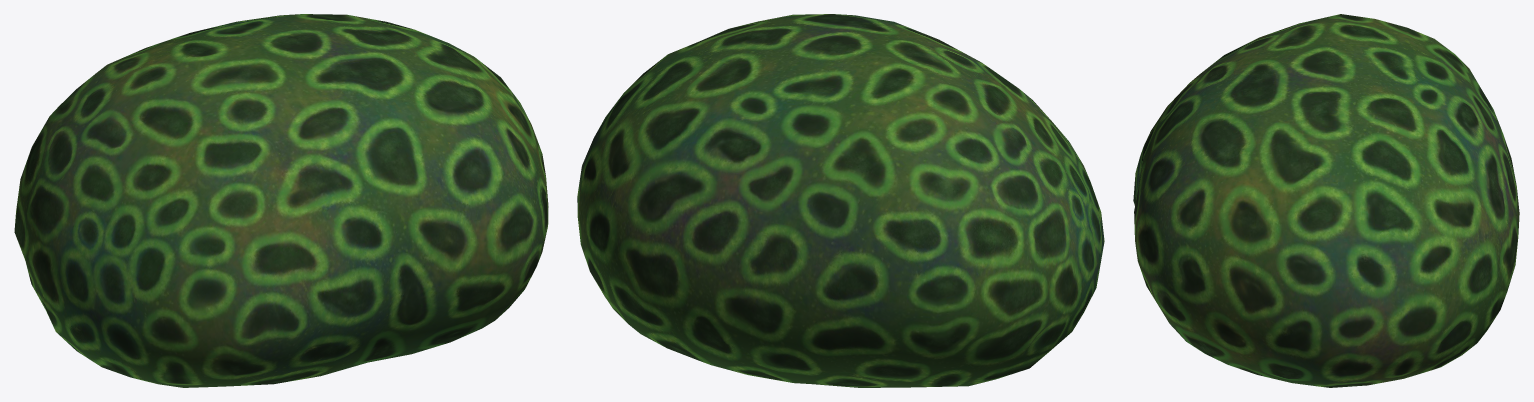
File: plant_05.fbx
The picture shows the model from 3 angles, left to right: view 1: azimuth 30°, elevation 25°; view 2: azimuth 150°, elevation 25°; view 3: azimuth 270°, elevation 25°; orthographic projection. The views are drawn at different scales.
Visible parts, largest first — view 1: pCube1; view 2: pCube1; view 3: pCube1.
Boxes of the visible parts, x1,y1,x2,y2 form: pCube1: (14, 14, 548, 387); pCube1: (577, 14, 1104, 387); pCube1: (1133, 14, 1519, 387).
Size of the model in its own units: 8.21 by 5.06 by 6.39.
